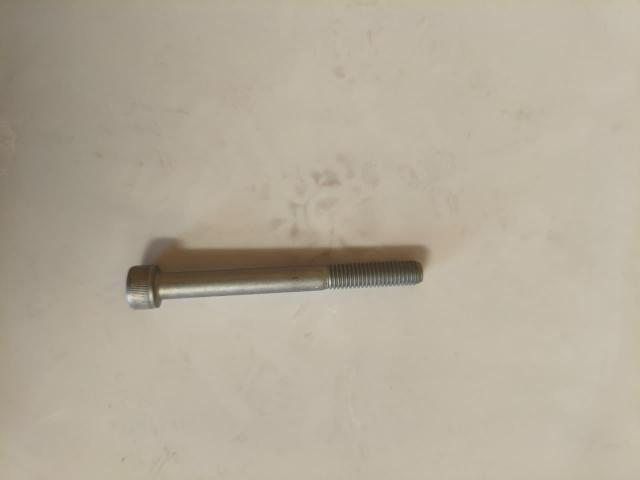Metal: (123, 257, 428, 312)
